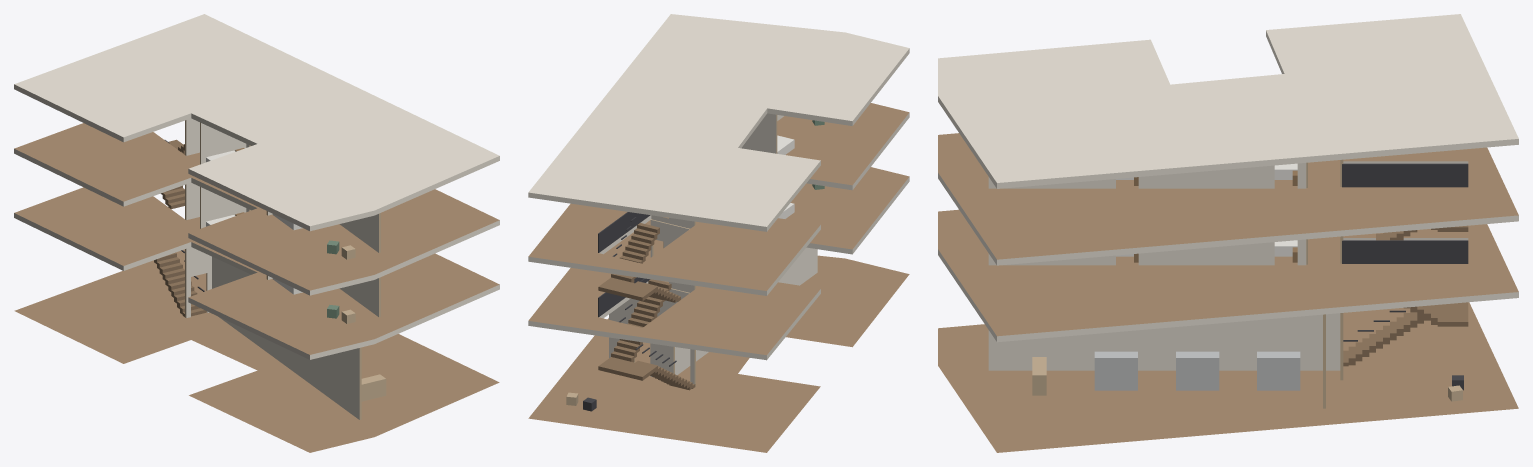
Rendered from interior.glb.
3 views of the same model, side by side, from view 1: azimuth 30°, elevation 25°; view 2: azimuth 150°, elevation 25°; view 3: azimuth 270°, elevation 25° (orthographic). The views are drawn at different scales.
Parts seen in each view (by area): view 1: slabs, partitions, stair, coarse-s2, coarse-s1, coarse-s0; view 2: slabs, stair, partitions; view 3: slabs, partitions, stair, coarse-s0.
Part boxes in pixels (x1,y1,x2,y2): slabs: (14, 14, 499, 452); partitions: (185, 118, 380, 419); stair: (154, 139, 205, 316); coarse-s2: (206, 148, 355, 259); coarse-s1: (206, 212, 355, 323); coarse-s0: (361, 374, 386, 401); slabs: (528, 14, 909, 452); stair: (598, 212, 695, 390); partitions: (609, 113, 817, 386); slabs: (938, 14, 1518, 452); partitions: (988, 159, 1343, 408); stair: (1342, 163, 1468, 366); coarse-s0: (1032, 351, 1463, 401).
Bounding box in the file's own units: 15.77 × 11.76 × 22.9.
